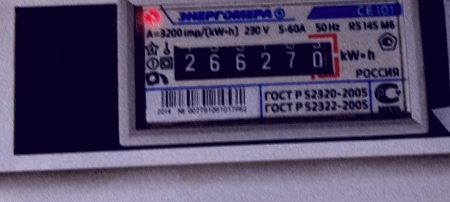0: (309, 47, 324, 68)
2: (182, 50, 196, 72), (259, 49, 273, 70)
6: (207, 50, 220, 72), (233, 50, 247, 70)
7: (285, 48, 296, 67)
screen: (160, 27, 345, 90)
